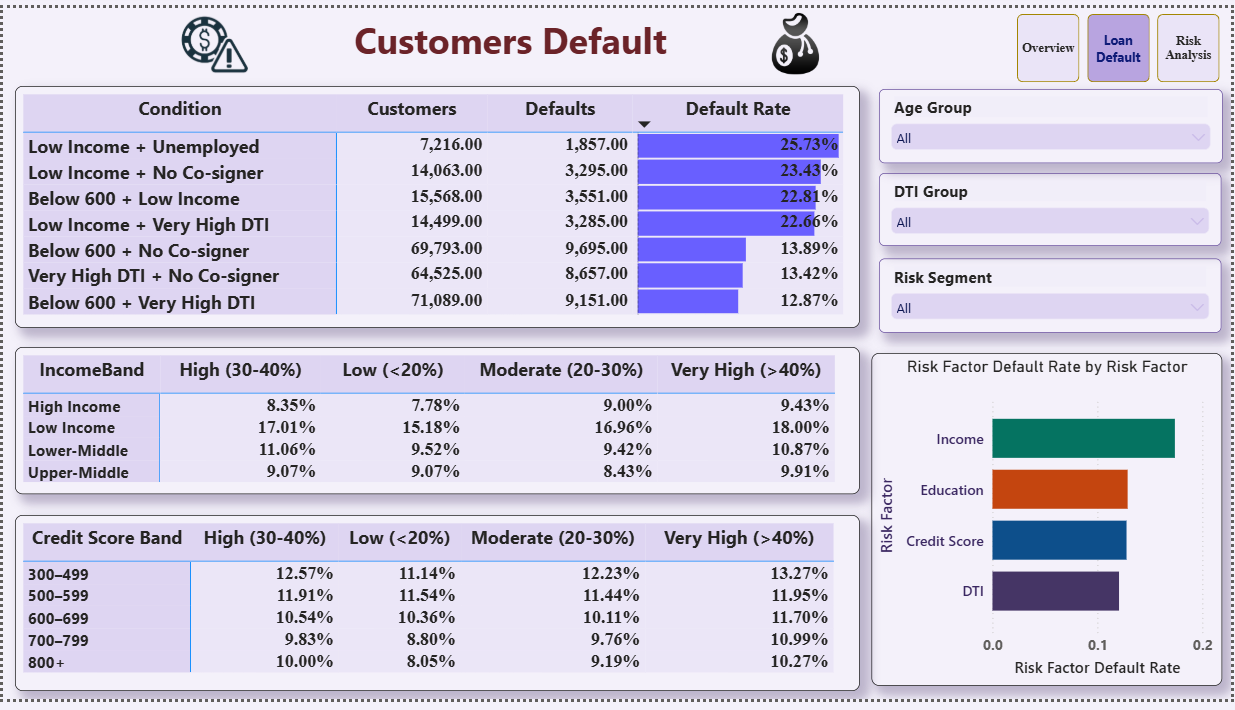

Layout of this report page (visuals, bound fields, positions):
{"tool":"powerbi","page":{"name":"Loan Default","canvas":[1280,720],"ordinal":1},"visuals":[{"type":"barChart","fields":{"Category":["Risk Factor.Risk Factor"],"Y":["Risk Factor.Risk Factor Default Rate"]},"box":[905,360,365,346.7],"z":0},{"type":"pivotTable","fields":{"Rows":["loan_data.IncomeBand"],"Columns":["loan_data.DTI_Band"],"Values":["loan_data.Default Rate"]},"box":[12.7,353.5,880.3,153.5],"z":1000},{"type":"pivotTable","fields":{"Rows":["loan_data.Credit Score Band"],"Columns":["loan_data.DTI_Band"],"Values":["loan_data.Default Rate"]},"box":[12.7,528.2,880.3,183.1],"z":2000},{"type":"pivotTable","fields":{"Rows":["Risk Combinations.Condition"],"Values":["loan_data.Combination Customers","loan_data.Combination Defaults","loan_data.Combination Default Rate"]},"box":[12.7,81.7,880.3,252.1],"z":3000},{"type":"slicer","fields":{"Values":["loan_data.Age Group"]},"box":[912.7,84.5,357.7,77.5],"z":4000},{"type":"slicer","fields":{"Values":["loan_data.DTI Group"]},"box":[912.7,171.8,356.3,76.1],"z":5000},{"type":"slicer","fields":{"Values":["loan_data.Risk Segment"]},"box":[912.7,260.6,356.3,77.5],"z":6000},{"type":"textbox","box":[283.1,0,491.5,71.8],"z":7000},{"type":"image","box":[169,7,101.4,60.6],"z":8000},{"type":"image","box":[776.1,2.8,98.6,67.6],"z":9000},{"type":"pageNavigator","box":[1056.3,5.6,212.7,71.8],"z":10000}]}

Visuals, with their boxes in screenshot pixels (x1, y1, x2, y2), scaled from the page's 1280x720 canvas onto the 1235x710 screenshot:
barChart - Risk Factor.Risk Factor x Risk Factor.Risk Factor Default Rate: rect(873, 355, 1225, 697)
pivotTable - loan_data.IncomeBand x loan_data.DTI_Band: rect(12, 349, 862, 500)
pivotTable - loan_data.Credit Score Band x loan_data.DTI_Band: rect(12, 521, 862, 701)
pivotTable - Risk Combinations.Condition x loan_data.Combination Customers: rect(12, 81, 862, 329)
slicer - loan_data.Age Group: rect(881, 83, 1226, 160)
slicer - loan_data.DTI Group: rect(881, 169, 1224, 244)
slicer - loan_data.Risk Segment: rect(881, 257, 1224, 333)
textbox: rect(273, 0, 747, 71)
image: rect(163, 7, 261, 67)
image: rect(749, 3, 844, 69)
pageNavigator: rect(1019, 6, 1224, 76)
